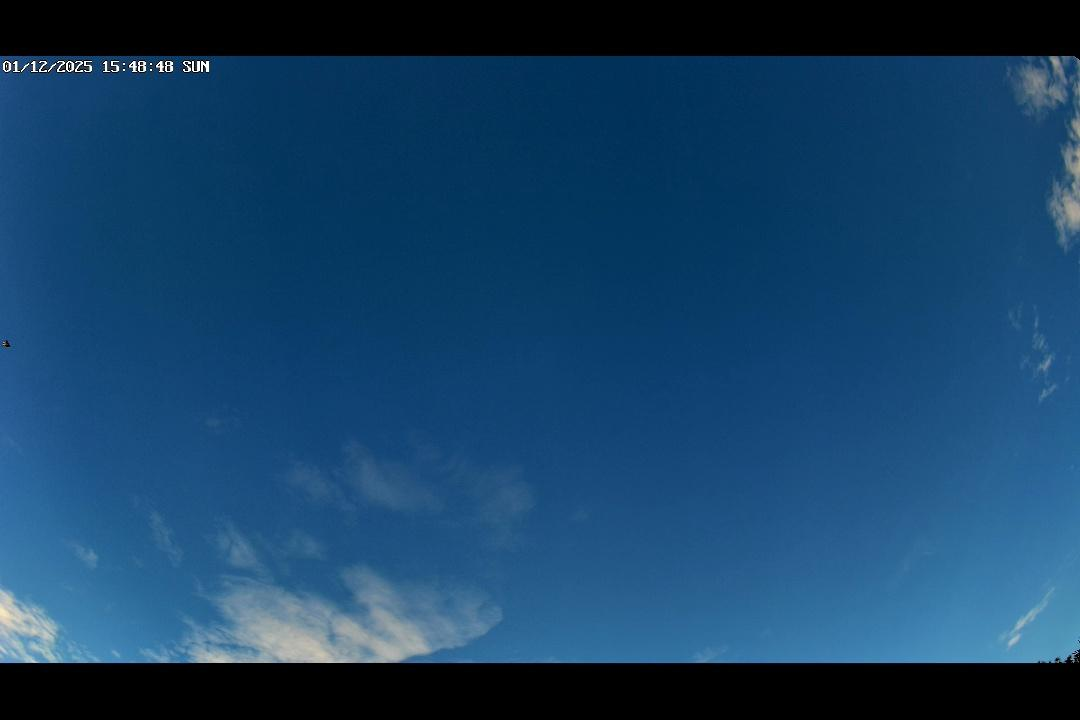WildLife: (0, 336, 21, 354)
